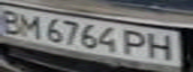4: (96, 25, 121, 54)
6: (39, 16, 66, 44), (78, 21, 100, 51)
7: (60, 18, 81, 47)
B: (0, 7, 27, 34)
H: (142, 30, 181, 62)
M: (18, 11, 45, 39)
P: (121, 28, 151, 57)
